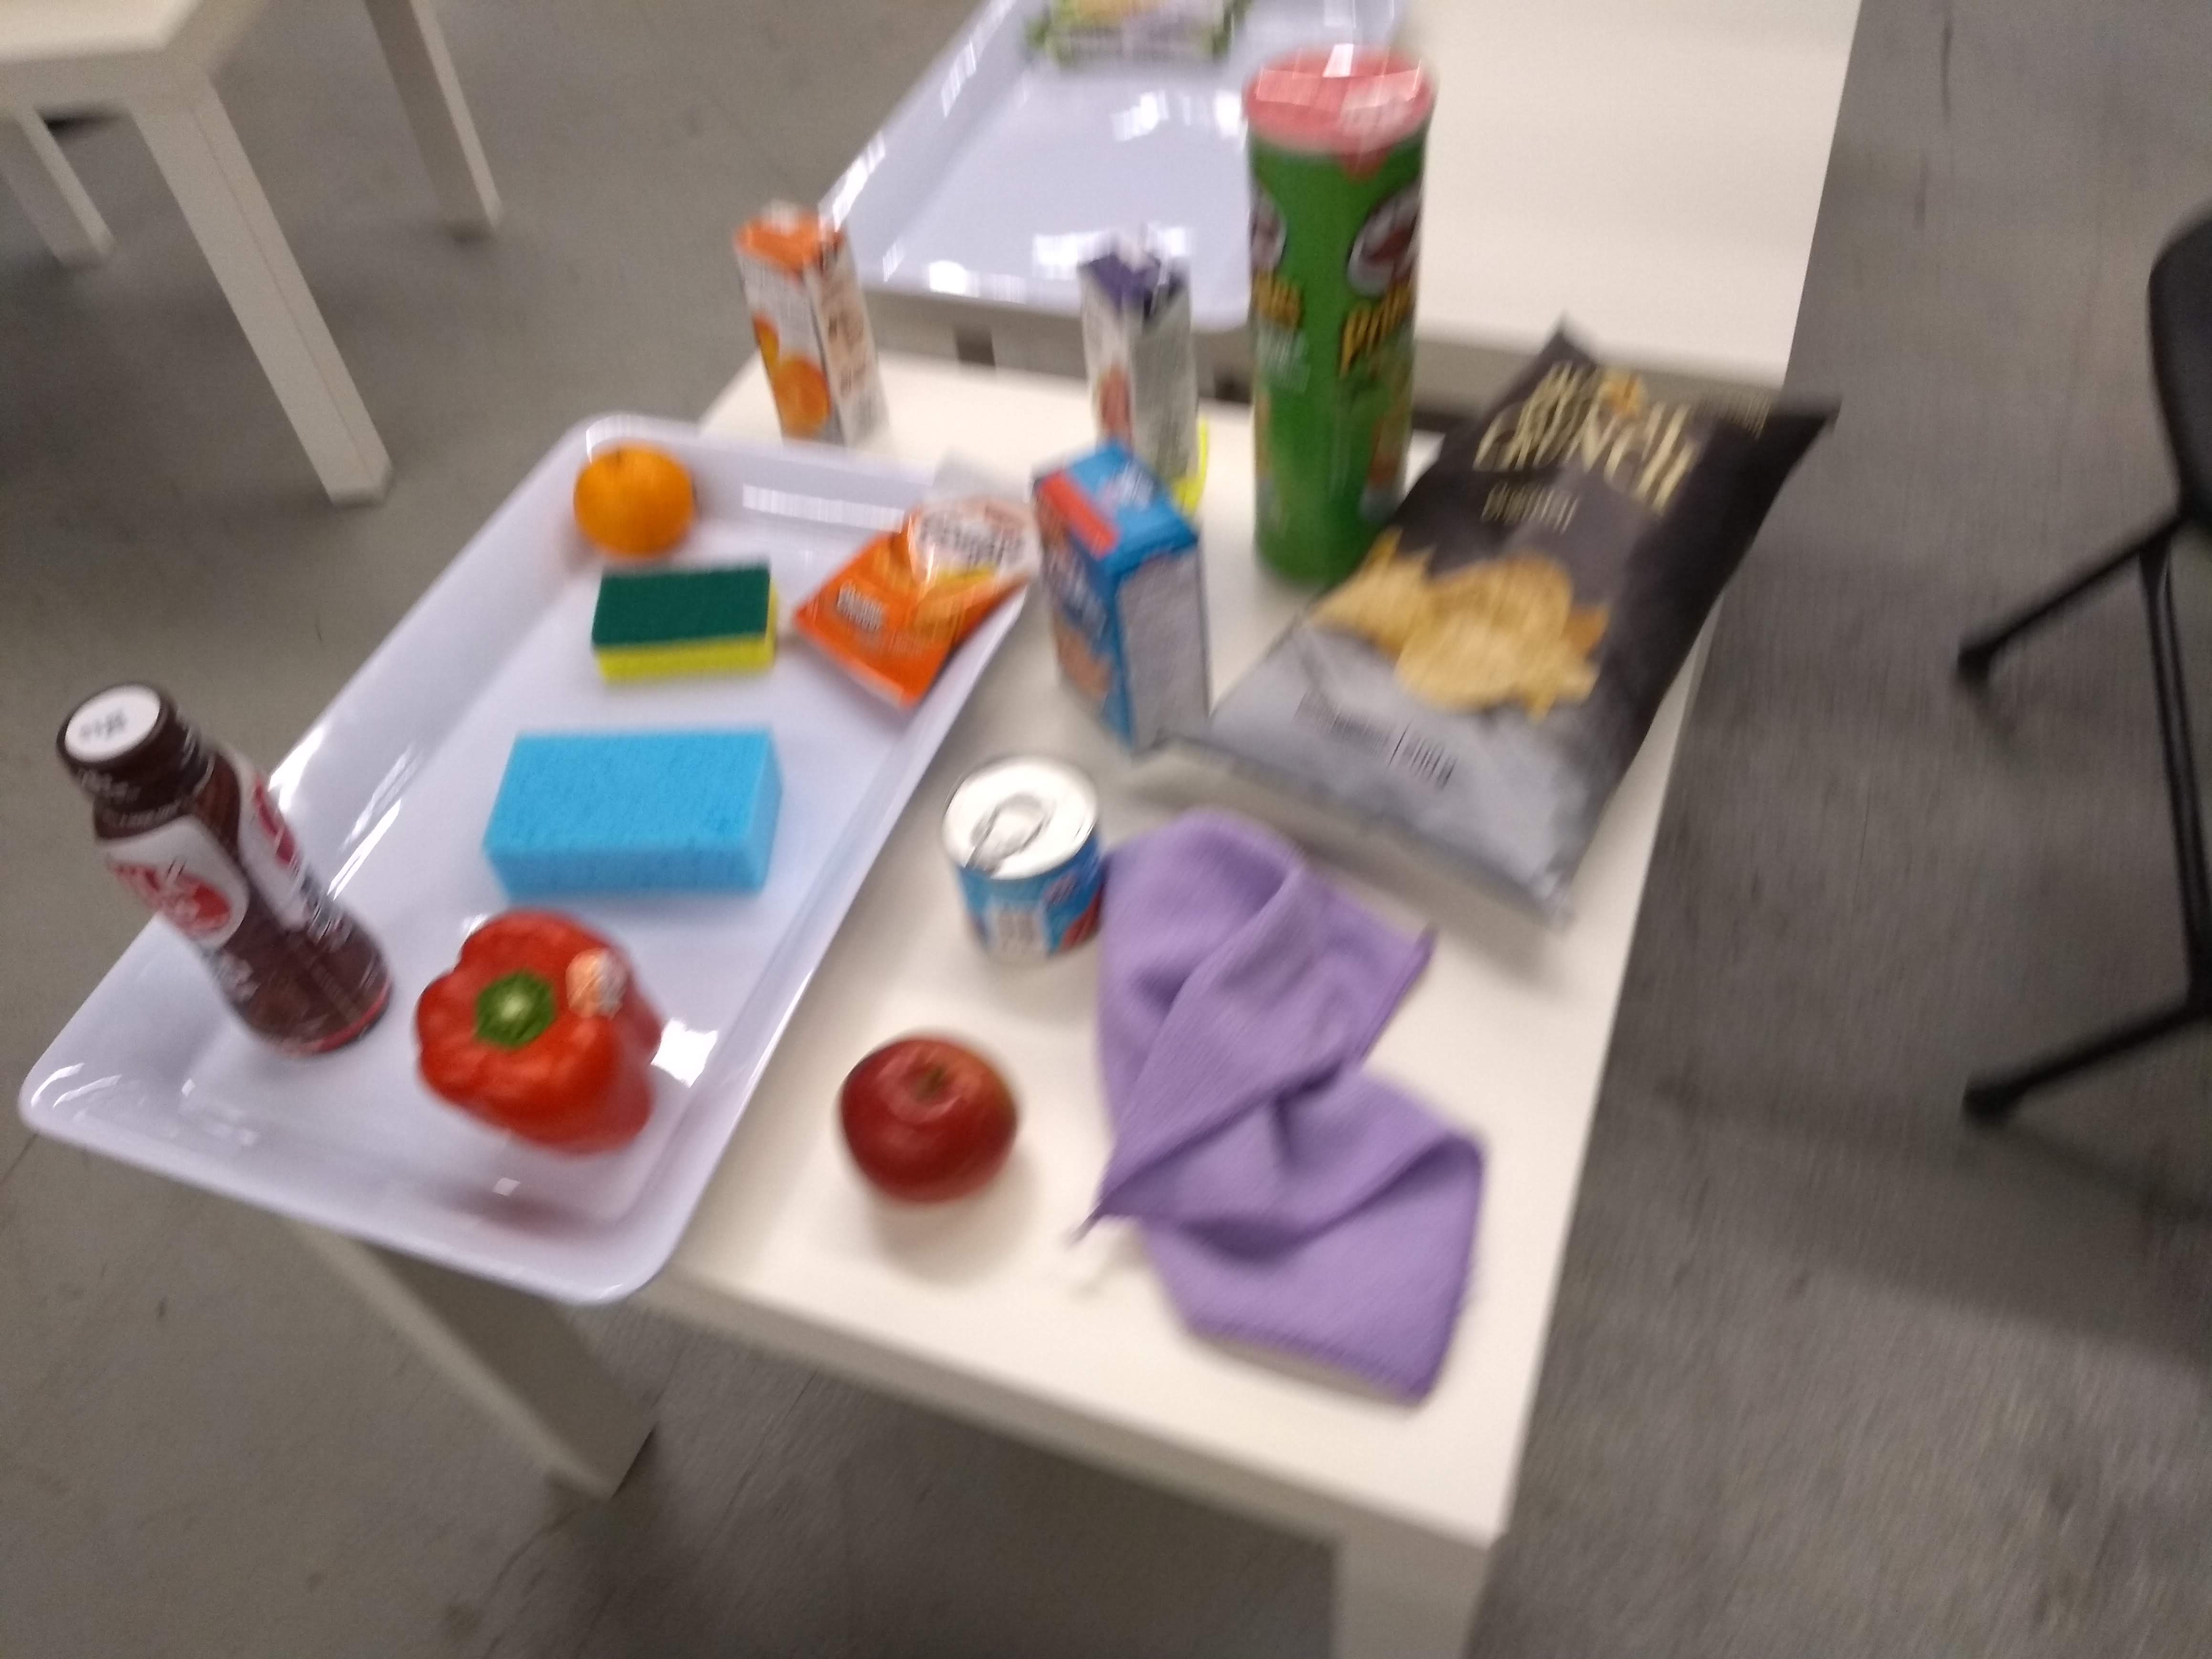apple: (824, 1026, 1024, 1213)
cereal: (1028, 446, 1226, 763)
chocolate_drink: (49, 669, 399, 1066)
crackers: (789, 457, 1068, 721)
grape_juice: (1083, 802, 1500, 1432), (1073, 234, 1216, 507)
orange: (570, 437, 698, 565)
orange_juice: (728, 186, 902, 462)
paprika: (409, 897, 674, 1164)
potato_chips: (1160, 314, 1848, 929)
pringles: (1237, 31, 1428, 598)
sausages: (930, 742, 1118, 974)
scrubby: (587, 559, 784, 692)
sponge_opl: (479, 709, 798, 915)
